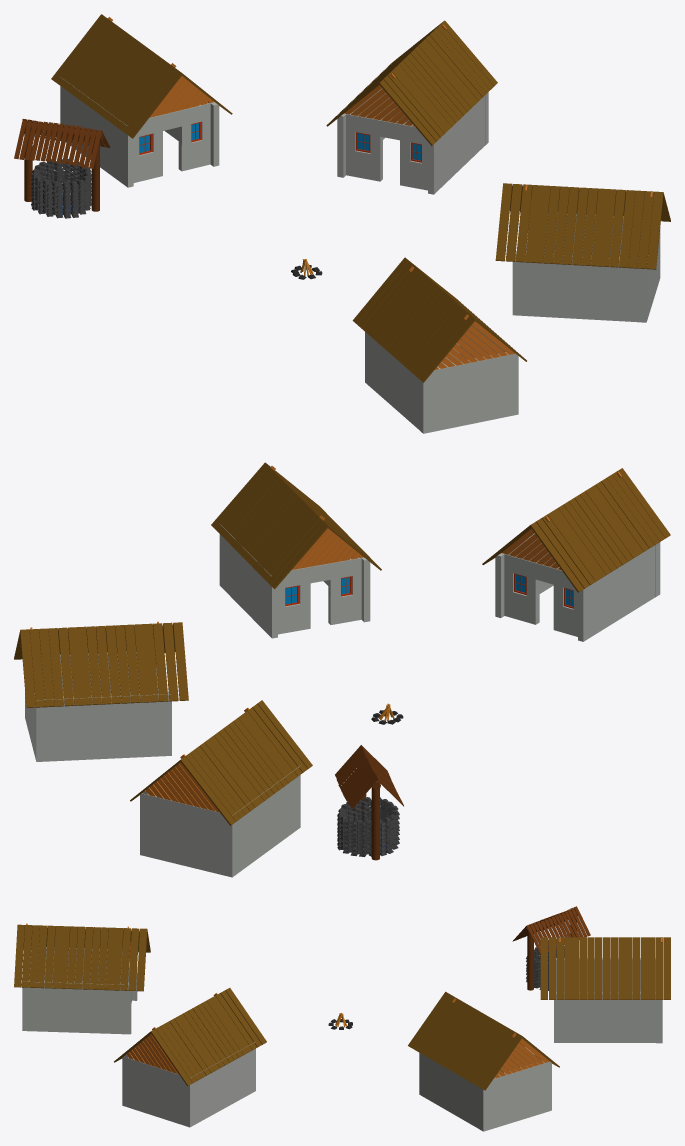
Rendered from kishaz.obj.
3 views of the same model, one above another, from view 1: azimuth 30°, elevation 25°; view 2: azimuth 150°, elevation 25°; view 3: azimuth 270°, elevation 25° (orthographic). The views are drawn at different scales.
Visible parts, largest first — view 1: Cube.003_Cube.060, Cylinder.002_Cylinder.007; view 2: Cube.003_Cube.060, Cylinder.002_Cylinder.007; view 3: Cube.003_Cube.060, Cylinder.002_Cylinder.007.
Part boxes in pixels (box(x1,y1,x2,y2)): Cube.003_Cube.060: box(51, 14, 670, 433); Cylinder.002_Cylinder.007: box(14, 119, 110, 218); Cube.003_Cube.060: box(14, 462, 670, 877); Cylinder.002_Cylinder.007: box(335, 745, 403, 860); Cube.003_Cube.060: box(14, 923, 670, 1131); Cylinder.002_Cylinder.007: box(512, 906, 590, 990).
Size of the model in its own units: 59.48 by 14.43 by 96.51.
